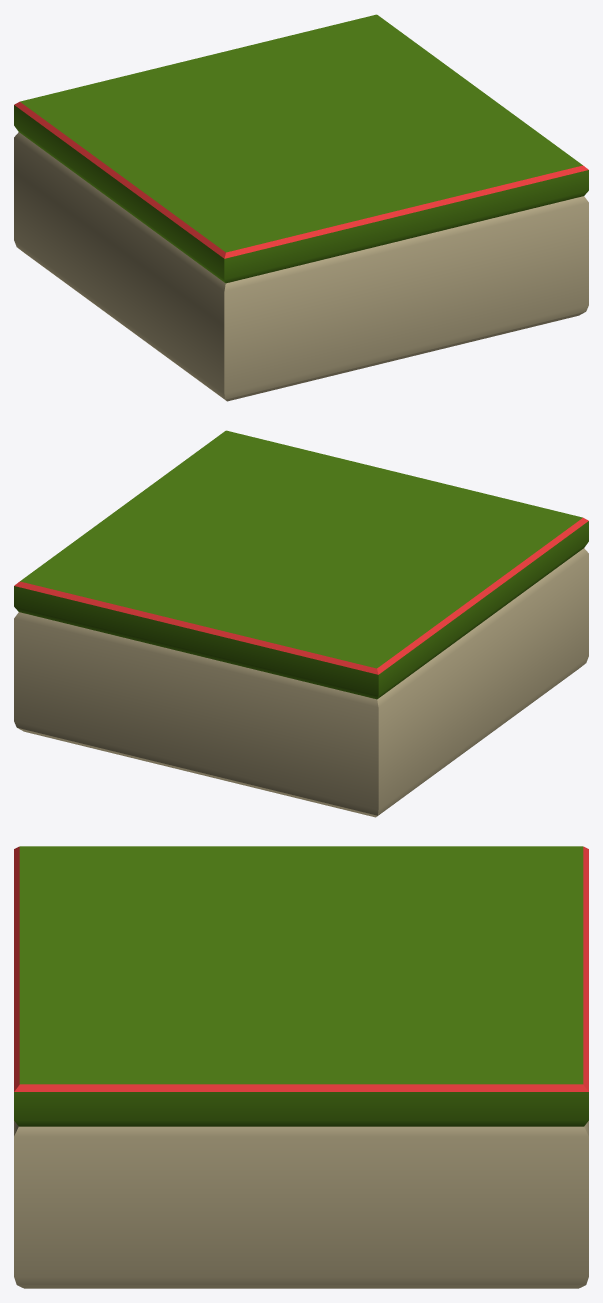
File: tile.fbx
The picture shows the model from 3 angles, top to bottom: view 1: azimuth 30°, elevation 25°; view 2: azimuth 150°, elevation 25°; view 3: azimuth 270°, elevation 25°; orthographic projection. The views are drawn at different scales.
Parts seen in each view (by area): view 1: Tile; view 2: Tile; view 3: Tile.
Boxes of the visible parts, x1,y1,x2,y2 form: Tile: (14,14,588,401); Tile: (14,430,588,817); Tile: (14,846,588,1288).
Size of the model in its own units: 200 by 80 by 200.
